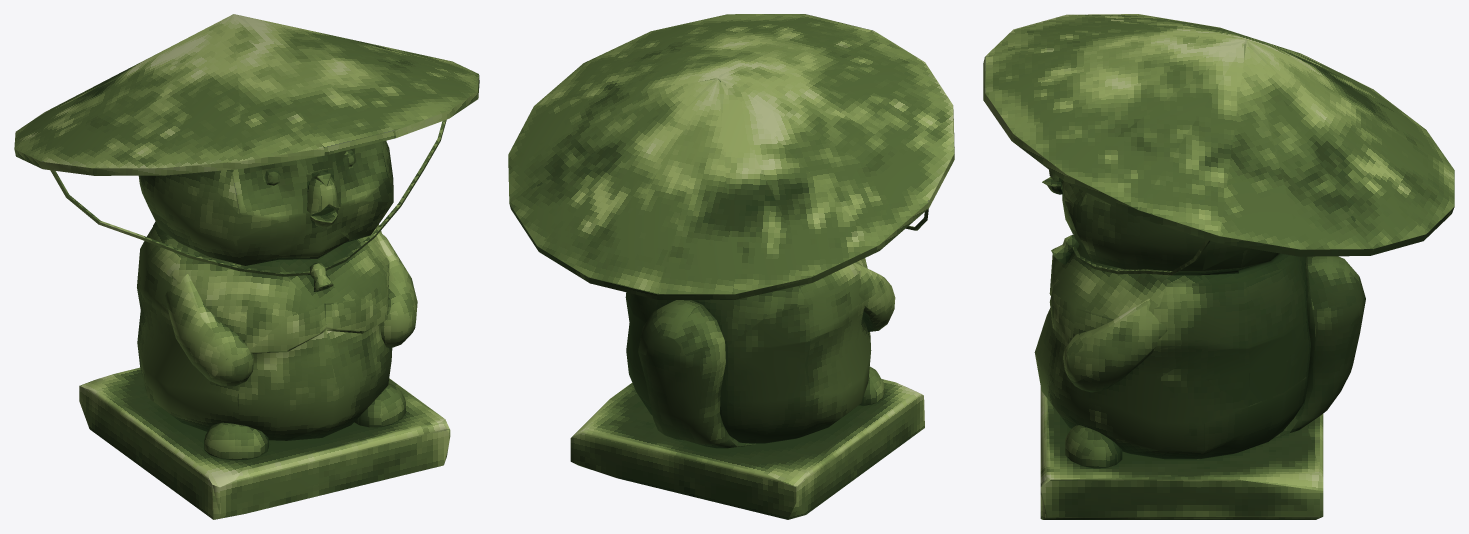
The model's file is yokai_tanuki.glb.
The picture shows the model from 3 angles, left to right: view 1: azimuth 30°, elevation 25°; view 2: azimuth 150°, elevation 25°; view 3: azimuth 270°, elevation 25°; orthographic projection. The views are drawn at different scales.
Parts seen in each view (by area): view 1: mesh; view 2: mesh; view 3: mesh.
Boxes of the visible parts, x1,y1,x2,y2 form: mesh: (14, 14, 479, 519); mesh: (508, 14, 954, 519); mesh: (983, 14, 1454, 519).
Bounding box in the file's own units: 1.01 × 0.95 × 0.961.
1 material, 1 textured.
